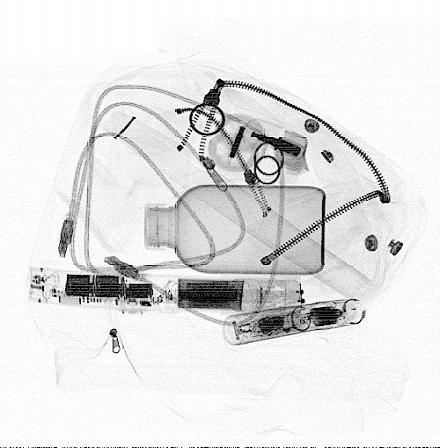Baton: (27, 267, 305, 315), (221, 298, 366, 348)
